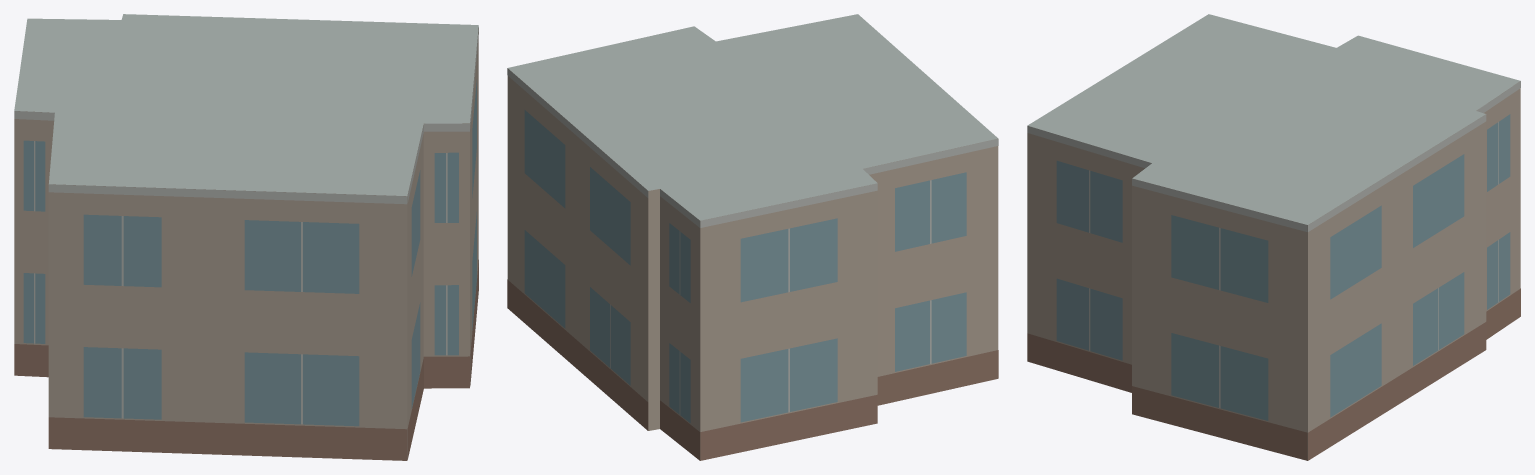
File: survey-upis-32832209.glb
The picture shows the model from 3 angles, left to right: view 1: azimuth 30°, elevation 25°; view 2: azimuth 150°, elevation 25°; view 3: azimuth 270°, elevation 25°; orthographic projection. The views are drawn at different scales.
Parts seen in each view (by area): view 1: survey-upis-32832209.tmp; view 2: survey-upis-32832209.tmp; view 3: survey-upis-32832209.tmp.
Part boxes in pixels (<box>): survey-upis-32832209.tmp: <box>14,14,478,460</box>; survey-upis-32832209.tmp: <box>507,14,998,460</box>; survey-upis-32832209.tmp: <box>1027,14,1520,460</box>.
Bounding box in the file's own units: 15.31 × 7.97 × 15.13.
